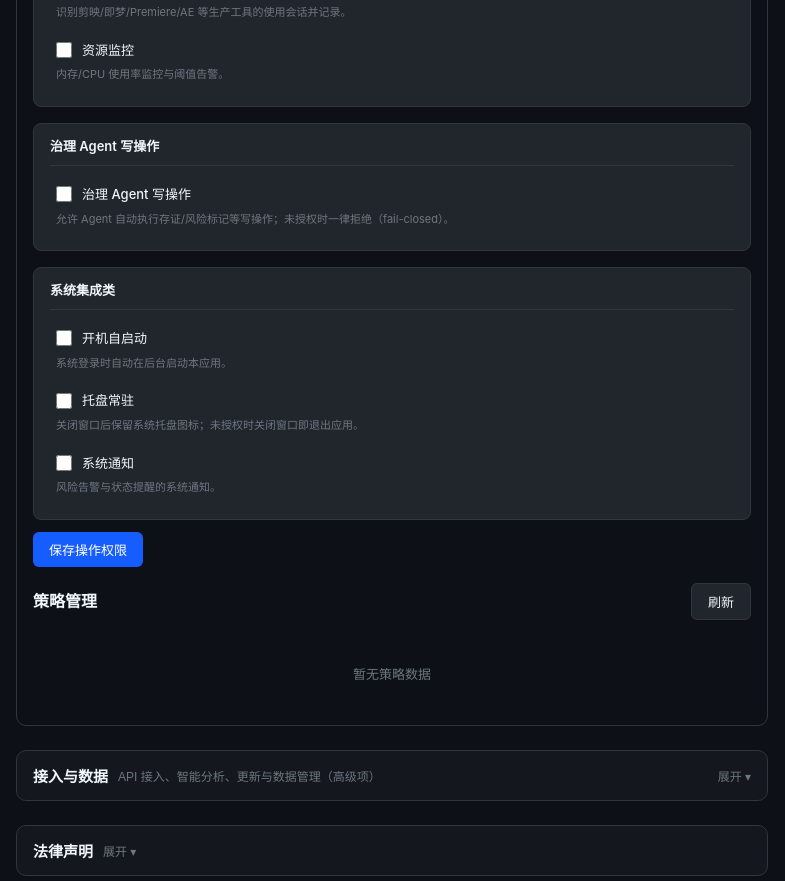
Scenario: Settings 操作权限区块 › 非 Electron 环境：保存时提示不支持
This screenshot has width=785, height=881.
(page scrolled)
Click the button "保存操作权限": {"x": 88, "y": 550} 33,532 -> 143,567
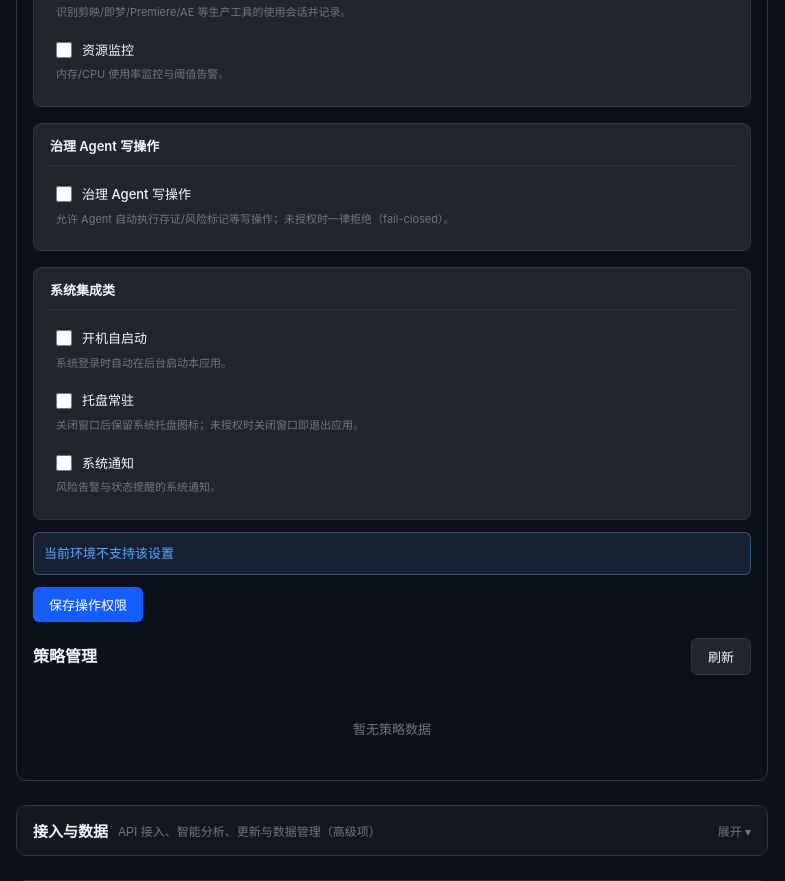
Expected: the text "当前环境不支持该设置" is shown, 33,532 -> 751,575
